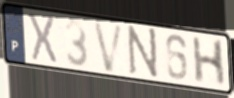3: (64, 18, 90, 69)
6: (164, 33, 189, 82)
H: (190, 36, 226, 88)
N: (127, 24, 159, 82)
V: (91, 20, 126, 75)
X: (28, 11, 59, 67)
